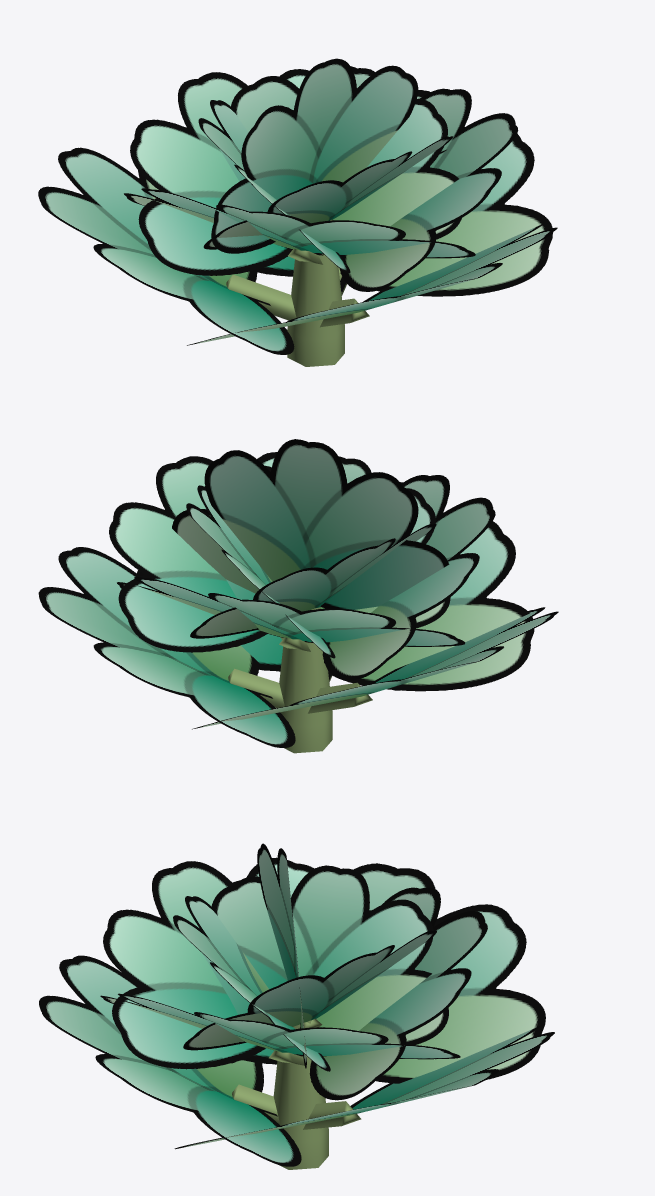
File: palecress.gltf
3 views of the same model, one above another, from view 1: azimuth 30°, elevation 25°; view 2: azimuth 150°, elevation 25°; view 3: azimuth 270°, elevation 25° (orthographic). The views are drawn at different scales.
Parts seen in each view (by area): view 1: leaves, bark; view 2: leaves, bark; view 3: leaves, bark.
Boxes of the visible parts, left/top/right/bottom form: leaves: left=38, top=58, right=557, bottom=354; bark: left=226, top=219, right=369, bottom=366; leaves: left=38, top=439, right=558, bottom=747; bark: left=228, top=607, right=372, bottom=753; leaves: left=39, top=843, right=554, bottom=1166; bark: left=232, top=1018, right=361, bottom=1169.
Bounding box in the file's own units: 0.4546 × 0.2252 × 0.4176.
2 materials, 1 textured.
